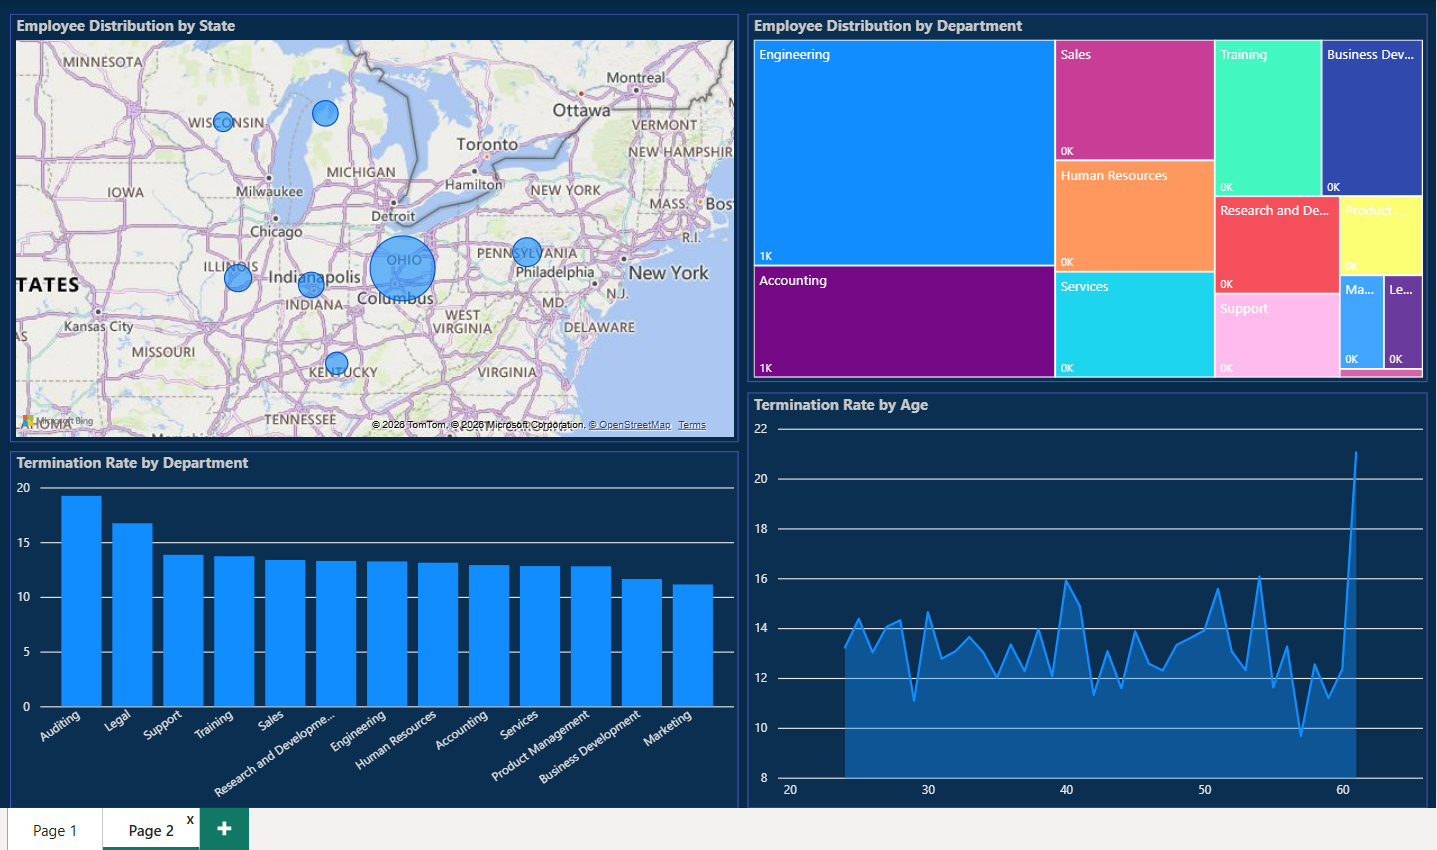

The dashboard page shown, as its layout file describes it:
{"tool":"powerbi","page":{"name":"Page 2","canvas":[1280,720],"ordinal":1},"visuals":[{"type":"map","title":"Employee Distribution by State","fields":{"Category":["employees_by_state.location_state"],"Size":["Sum(employees_by_state.count)"]},"box":[8.4,12.1,649.1,381.2],"z":0},{"type":"areaChart","title":"Termination Rate by Age","fields":{"Category":["age_termination.age"],"Y":["Sum(age_termination.termination_rate)"]},"box":[666,349.9,605.6,370.4],"z":1000},{"type":"treemap","title":"Employee Distribution by Department","fields":{"Group":["gender_by_department_jobtitle.department"],"Values":["Sum(gender_by_department_jobtitle.count)"]},"box":[666,12.1,605.6,328.2],"z":2000},{"type":"columnChart","title":"Termination Rate by Department","fields":{"Category":["department_termination_rate.department"],"Y":["Sum(department_termination_rate.termination_rate)"]},"box":[8.4,401.7,649.1,318.5],"z":3000}]}

Visuals, with their boxes on the page's 1280x720 design canvas (x1, y1, x2, y2). These are canvas units, not pixel positions in the 1437x850 screenshot, which may show the page scaled, cropped or inside an application window:
"Employee Distribution by State" map: <region>8, 12, 658, 393</region>
"Termination Rate by Age" areaChart: <region>666, 350, 1272, 720</region>
"Employee Distribution by Department" treemap: <region>666, 12, 1272, 340</region>
"Termination Rate by Department" columnChart: <region>8, 402, 658, 720</region>
